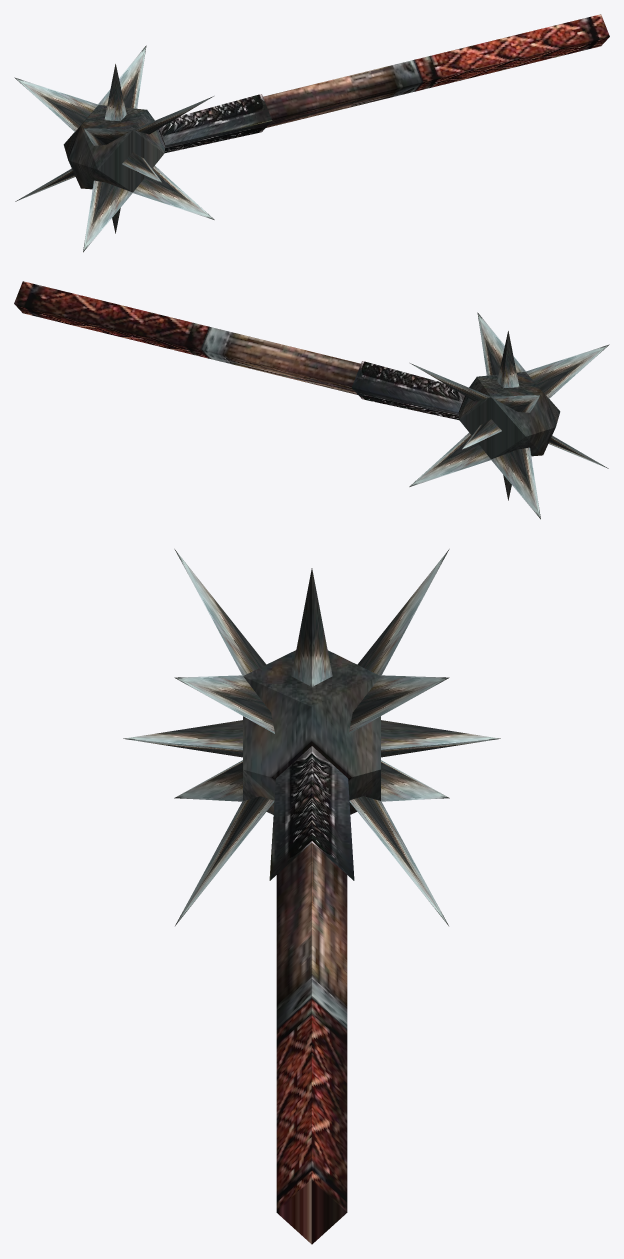
The model's file is ITMW_045_1H_MACE_04.glb.
3 renders of one model, top to bottom at view 1: azimuth 30°, elevation 25°; view 2: azimuth 150°, elevation 25°; view 3: azimuth 270°, elevation 25°, orthographic. The views are drawn at different scales.
Visible parts, largest first — view 1: ITMW_045_1H_MACE_04; view 2: ITMW_045_1H_MACE_04; view 3: ITMW_045_1H_MACE_04.
Part boxes in pixels (bbox=[...]): ITMW_045_1H_MACE_04: bbox=[14, 14, 609, 252]; ITMW_045_1H_MACE_04: bbox=[14, 281, 609, 519]; ITMW_045_1H_MACE_04: bbox=[123, 549, 500, 1244].
Bounding box in the file's own units: 0.8305 × 0.2463 × 0.2463.
Materials: 2 (2 with a texture image).
